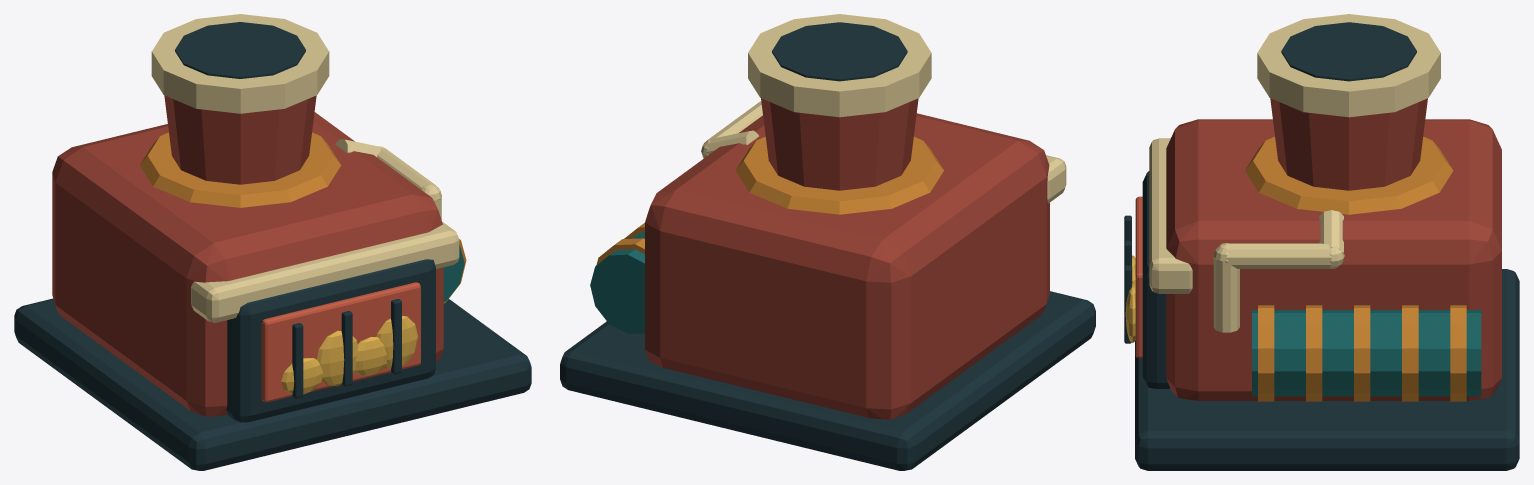
The model's file is PL_CoalFoundry.glb.
3 renders of one model, left to right at view 1: azimuth 30°, elevation 25°; view 2: azimuth 150°, elevation 25°; view 3: azimuth 270°, elevation 25°, orthographic. The views are drawn at different scales.
Visible parts, largest first — view 1: ROOT_CoalFoundry_Surface; view 2: ROOT_CoalFoundry_Surface; view 3: ROOT_CoalFoundry_Surface.
Part boxes in pixels (x1,y1,x2,y2): ROOT_CoalFoundry_Surface: (14, 14, 531, 470); ROOT_CoalFoundry_Surface: (560, 14, 1095, 470); ROOT_CoalFoundry_Surface: (1124, 14, 1519, 470).
Bounding box in the file's own units: 1.87 × 1.66 × 1.81.
